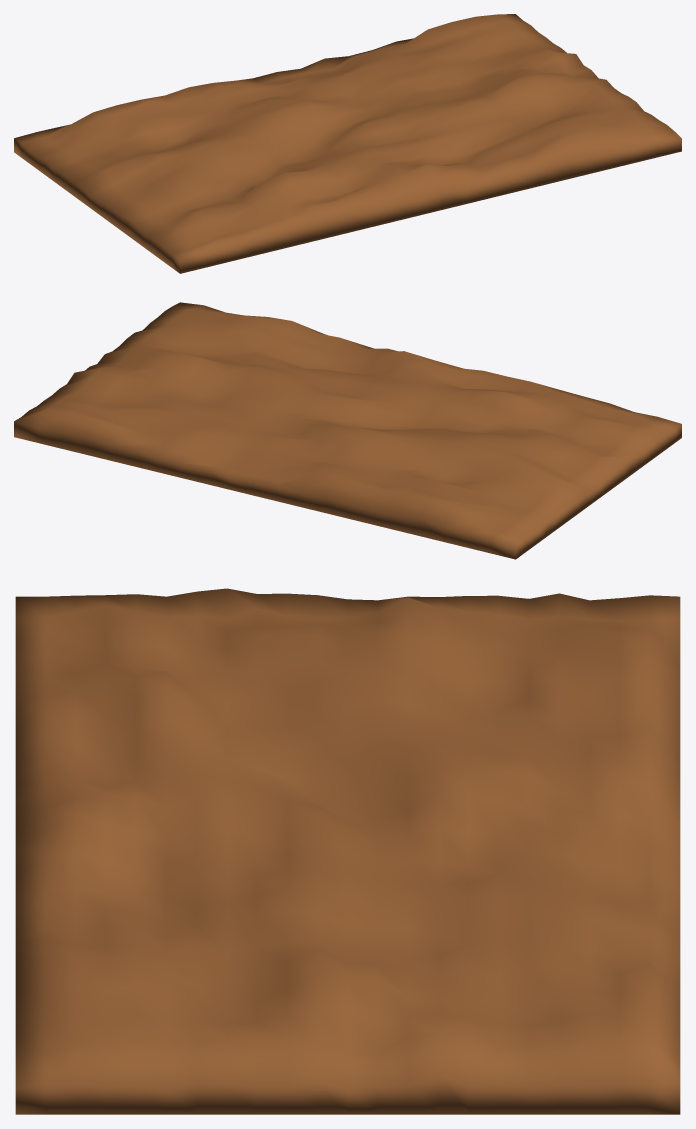
Rendered from GardenBed.fbx.
3 renders of one model, top to bottom at view 1: azimuth 30°, elevation 25°; view 2: azimuth 150°, elevation 25°; view 3: azimuth 270°, elevation 25°, orthographic. The views are drawn at different scales.
Parts seen in each view (by area): view 1: GardenBed; view 2: GardenBed; view 3: GardenBed.
Boxes of the visible parts, <box> form: GardenBed: <box>14,14,681,273</box>; GardenBed: <box>14,302,681,559</box>; GardenBed: <box>15,588,680,1114</box>.
Size of the model in its own units: 44.01 by 3.23 by 25.24.
